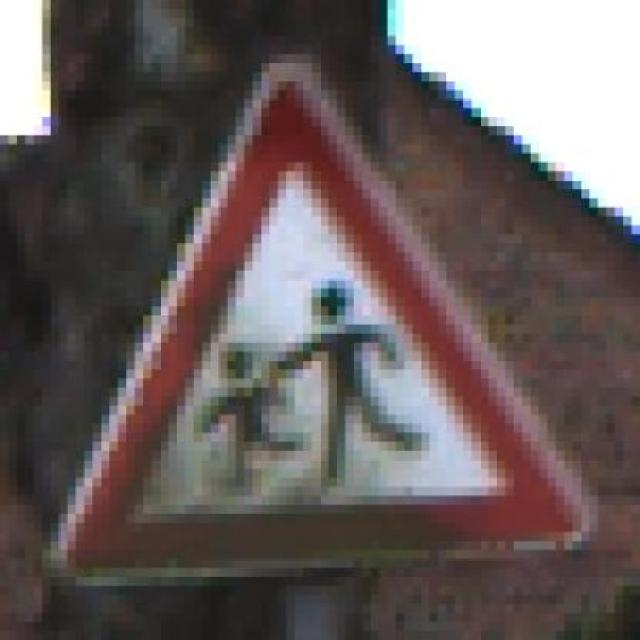Beware of children: (42, 45, 615, 586)
